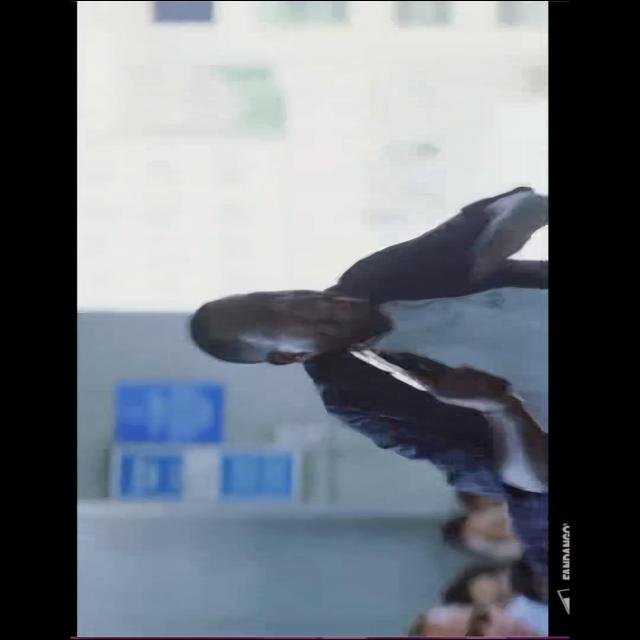weapons: (336, 334, 508, 399)
